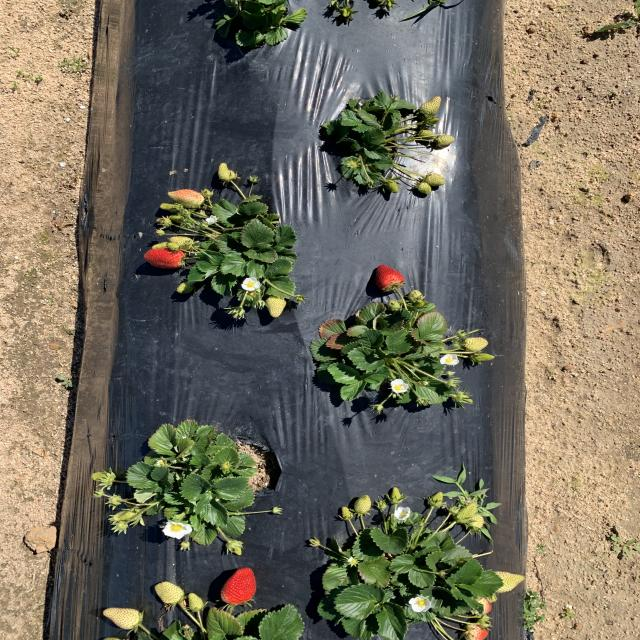unripe: (219, 566, 258, 606), (373, 262, 405, 292), (144, 247, 187, 268)
